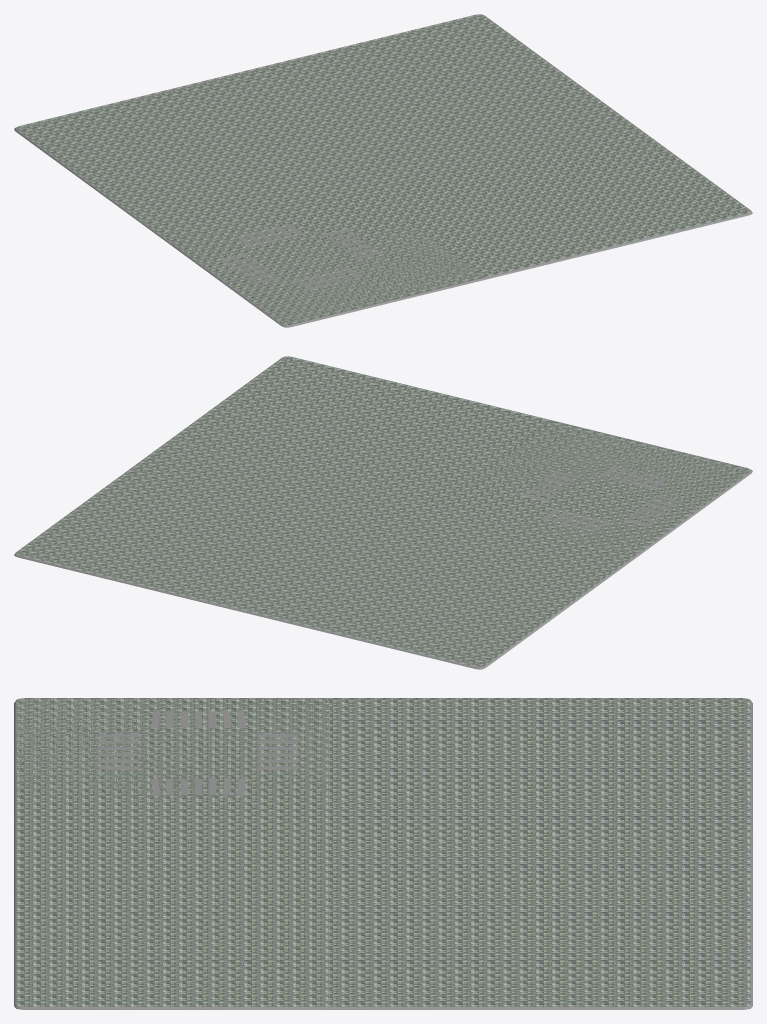
The model's file is City_Blocks_01.FBX.
3 renders of one model, top to bottom at view 1: azimuth 30°, elevation 25°; view 2: azimuth 150°, elevation 25°; view 3: azimuth 270°, elevation 25°, orthographic. The views are drawn at different scales.
Visible parts, largest first — view 1: Box027, Box013, Box007, Box002; view 2: Box027, Box013, Box007, Box002; view 3: Box027, Box013, Box007, Box002.
Part boxes in pixels (bbox=[...]): Box027: bbox=[14, 14, 749, 325]; Box013: bbox=[178, 128, 752, 326]; Box007: bbox=[171, 193, 485, 327]; Box002: bbox=[221, 223, 381, 290]; Box027: bbox=[14, 357, 751, 669]; Box013: bbox=[171, 356, 748, 552]; Box007: bbox=[436, 421, 752, 553]; Box002: bbox=[522, 466, 681, 532]; Box027: bbox=[16, 698, 752, 1009]; Box013: bbox=[14, 698, 329, 1009]; Box007: bbox=[14, 698, 329, 832]; Box002: bbox=[99, 711, 298, 795].
Bounding box in the file's own units: 14088 × 43.62 × 14170.
